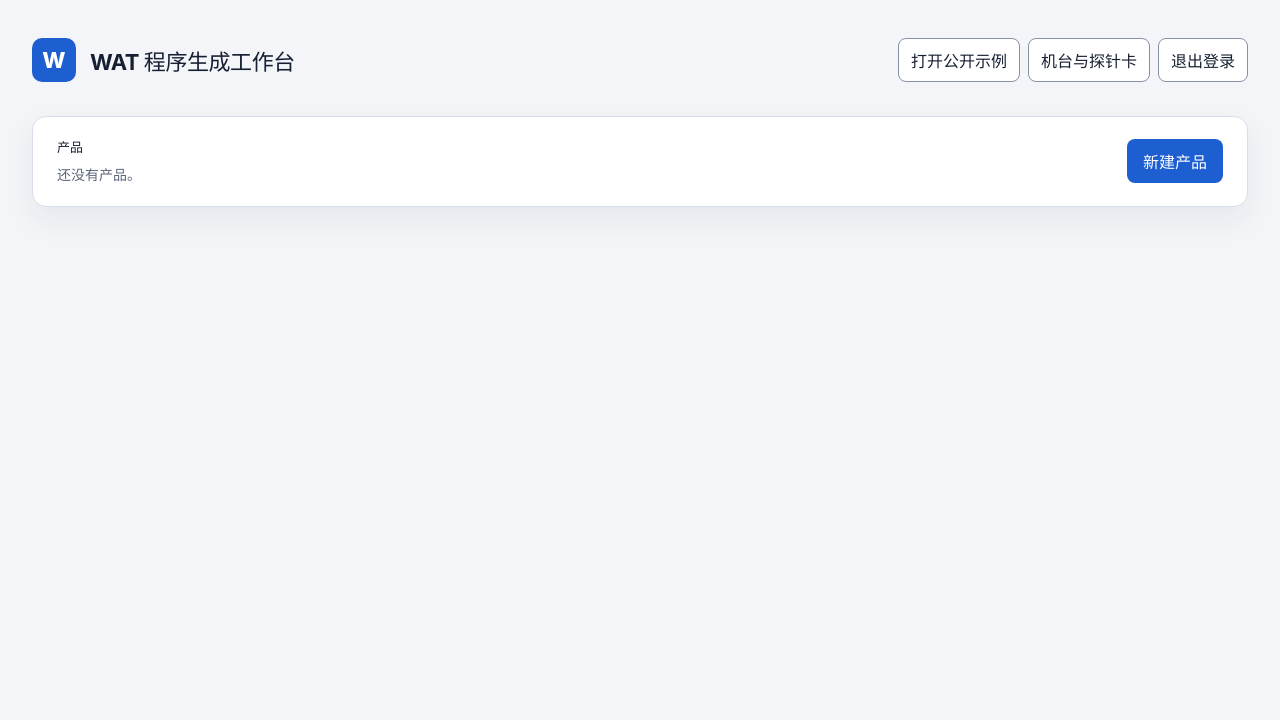
Test case: WAT pilot › opens the public automotive MOSFET example on demand
Expected: the heading "WAT 程序生成工作台" is shown, [90,44,295,76]
Click the button "打开公开示例".
click(959, 60)  # box [898,38,1020,82]
(page scrolled)
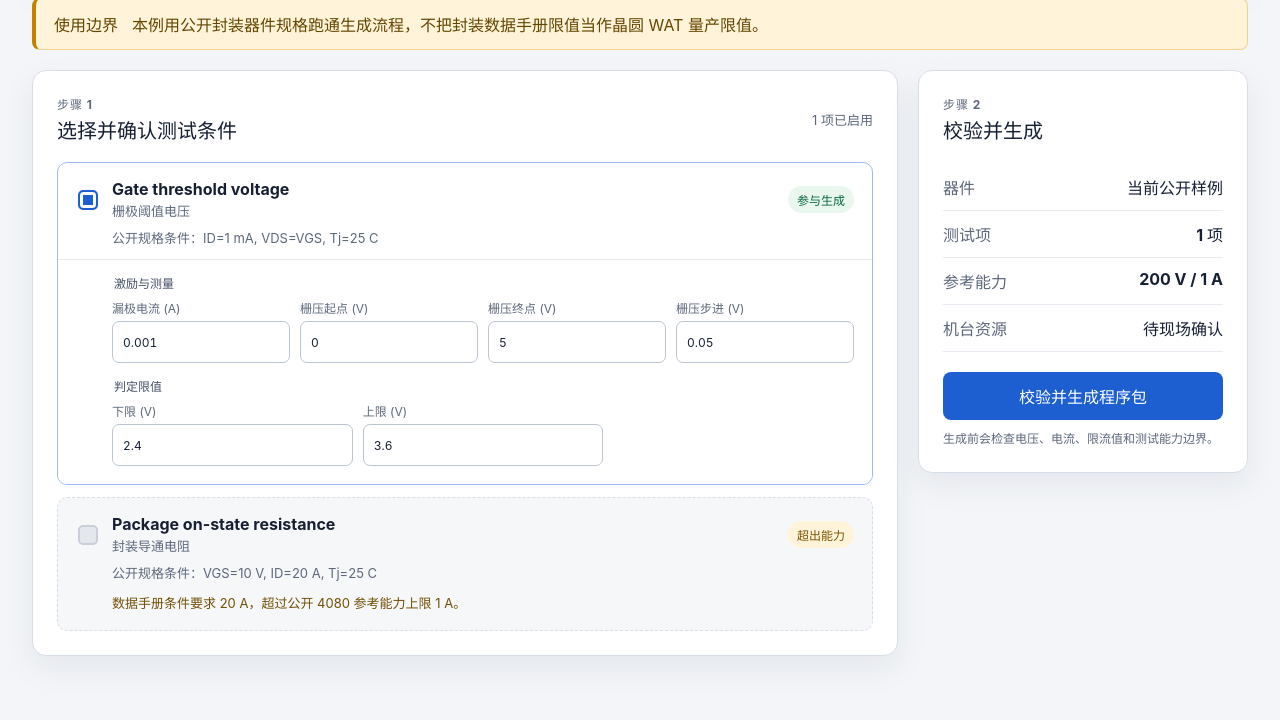
Expected: the button "校验并生成程序包" is enabled, [943,372,1223,420]
Expected: the heading "Package on-state resistance" is shown, [112,514,335,534]
Expected: the text "数据手册条件要求 20 A，超过公开 4080 参考能力上限 1 A。" is shown, [112,595,466,611]
